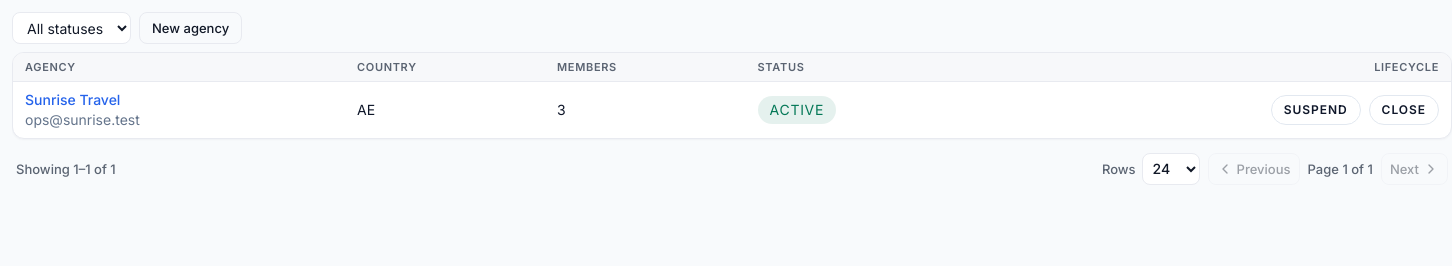
refusals › surfaces the server's explanation of an illegal move
The width and height of the screenshot is (1452, 266).
Expected: the link "Sunrise Travel" is shown, [25,90,120,110]
Click the 3rd button named "close": (1404, 110) [1369,94,1439,124]
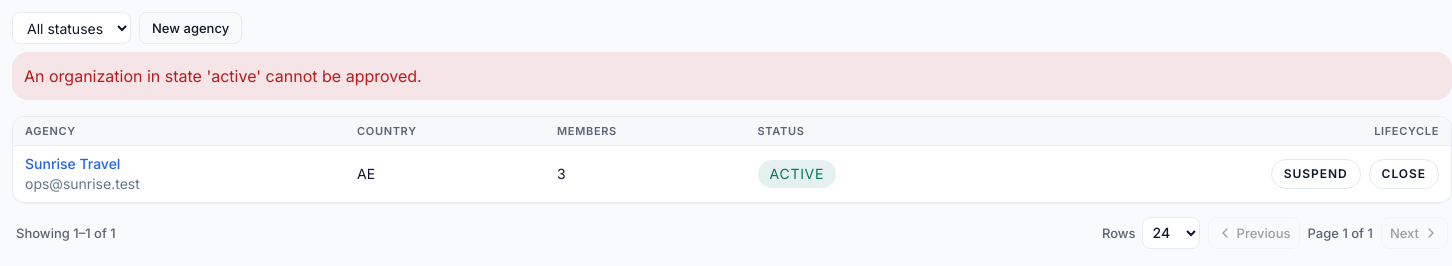
Now the message is shown, box [12,52,1451,100]
Now the text "An organization in state 'active' cannot be approved." is shown, box [24,66,422,86]
